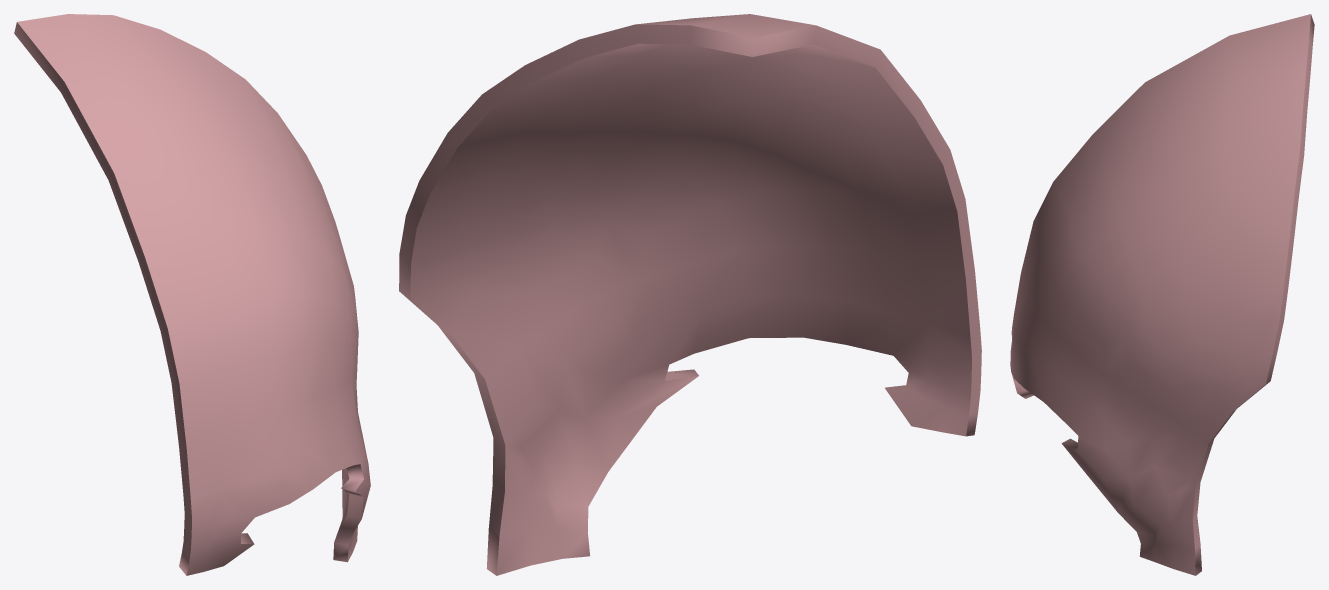
The picture shows the model from 3 angles, left to right: view 1: azimuth 30°, elevation 25°; view 2: azimuth 150°, elevation 25°; view 3: azimuth 270°, elevation 25°; orthographic projection. The views are drawn at different scales.
Parts seen in each view (by area): view 1: ZA_4dee23a0fae77804; view 2: ZA_4dee23a0fae77804; view 3: ZA_4dee23a0fae77804.
Part boxes in pixels (left/top/right/bottom): ZA_4dee23a0fae77804: left=14, top=14, right=370, bottom=575; ZA_4dee23a0fae77804: left=399, top=14, right=981, bottom=575; ZA_4dee23a0fae77804: left=1010, top=14, right=1314, bottom=575.
Size of the model in its own units: 0.0696 by 0.116 by 0.0714.
